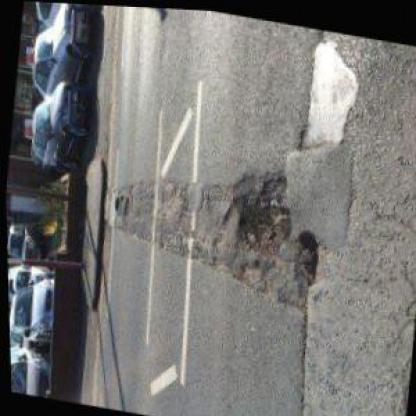pothole: (219, 160, 295, 264), (288, 224, 328, 284), (110, 192, 133, 216)
